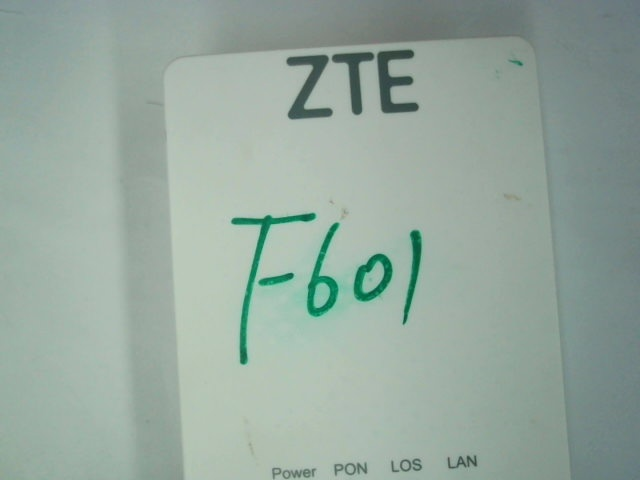AN_ZTE: (276, 44, 429, 119)
